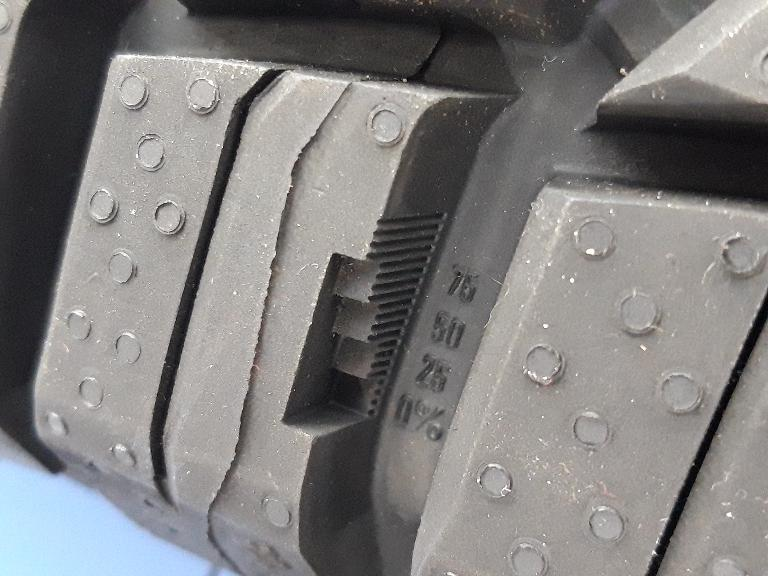temoin:100: (270, 202, 452, 451)
